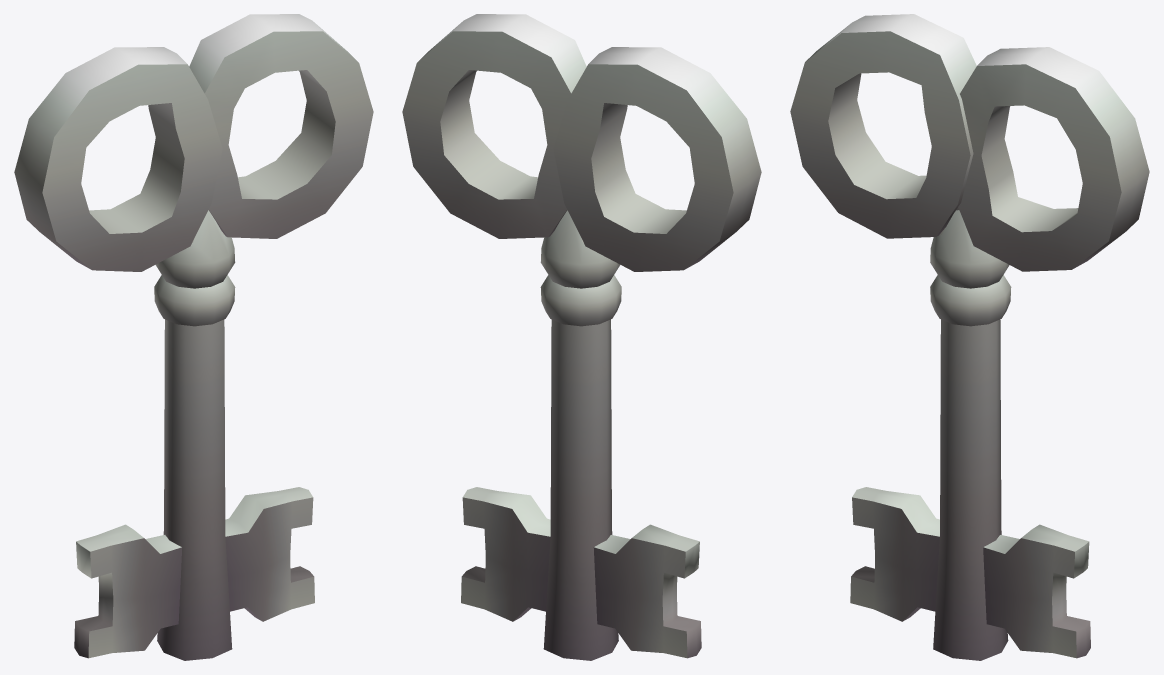
File: Skeleton_Key_02.glb
The picture shows the model from 3 angles, left to right: view 1: azimuth 30°, elevation 25°; view 2: azimuth 150°, elevation 25°; view 3: azimuth 330°, elevation 25°; orthographic projection.
Parts seen in each view (by area): view 1: Skeleton_Key_02; view 2: Skeleton_Key_02; view 3: Skeleton_Key_02.
Boxes of the visible parts, x1,y1,x2,y2 form: Skeleton_Key_02: [14, 14, 373, 660]; Skeleton_Key_02: [402, 14, 761, 660]; Skeleton_Key_02: [790, 14, 1149, 660].
Size of the model in its own units: 0.4653 by 0.8122 by 0.0974.
Materials: 1 (1 with a texture image).
